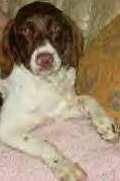dog: (1, 2, 120, 177)
